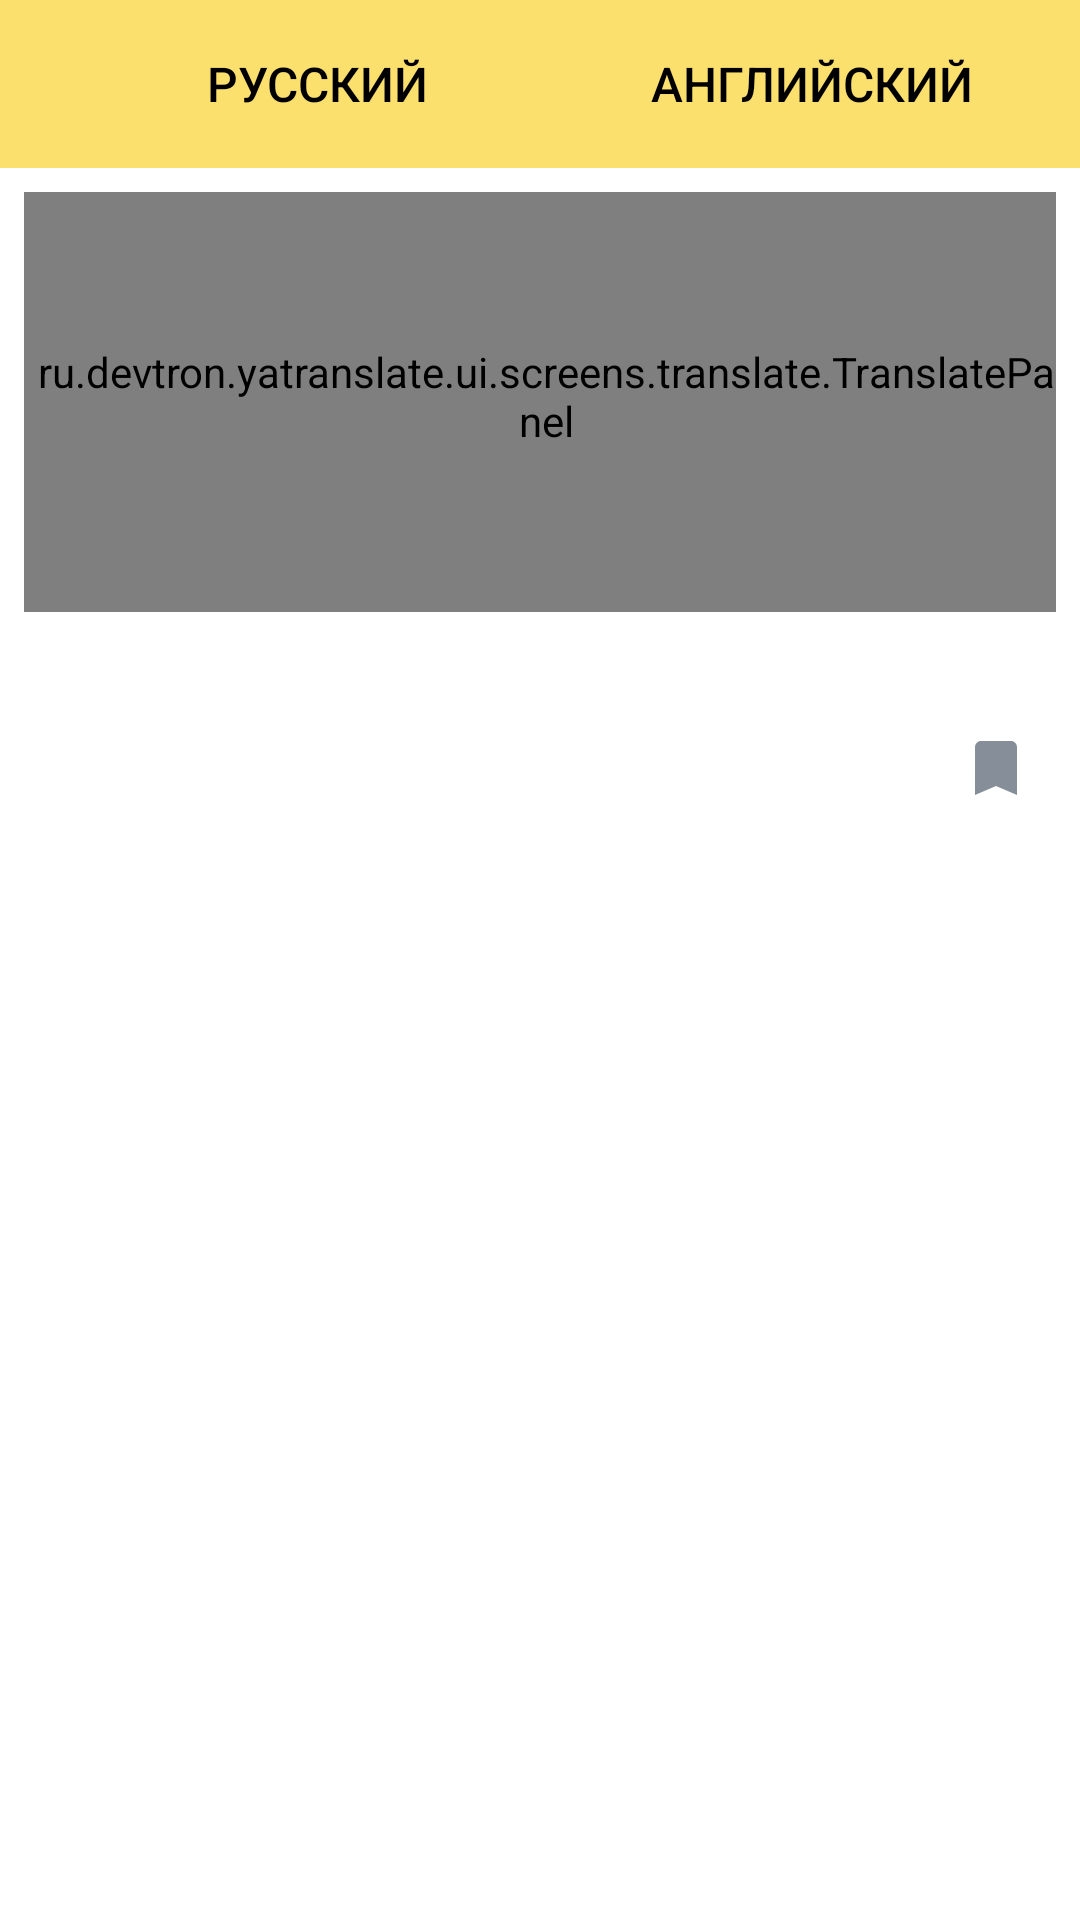

Locate icon controls on the screen. Image size 1080w x 1920h, boxes as [x1, y1, x2, y2].
favorite checker: [975, 741, 1017, 795]
